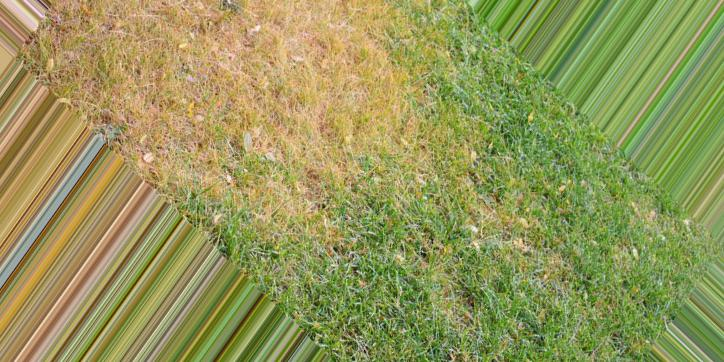patch: (137, 59, 249, 159), (265, 59, 353, 162), (214, 7, 303, 46), (360, 42, 416, 101), (263, 179, 336, 218), (107, 24, 189, 47)
